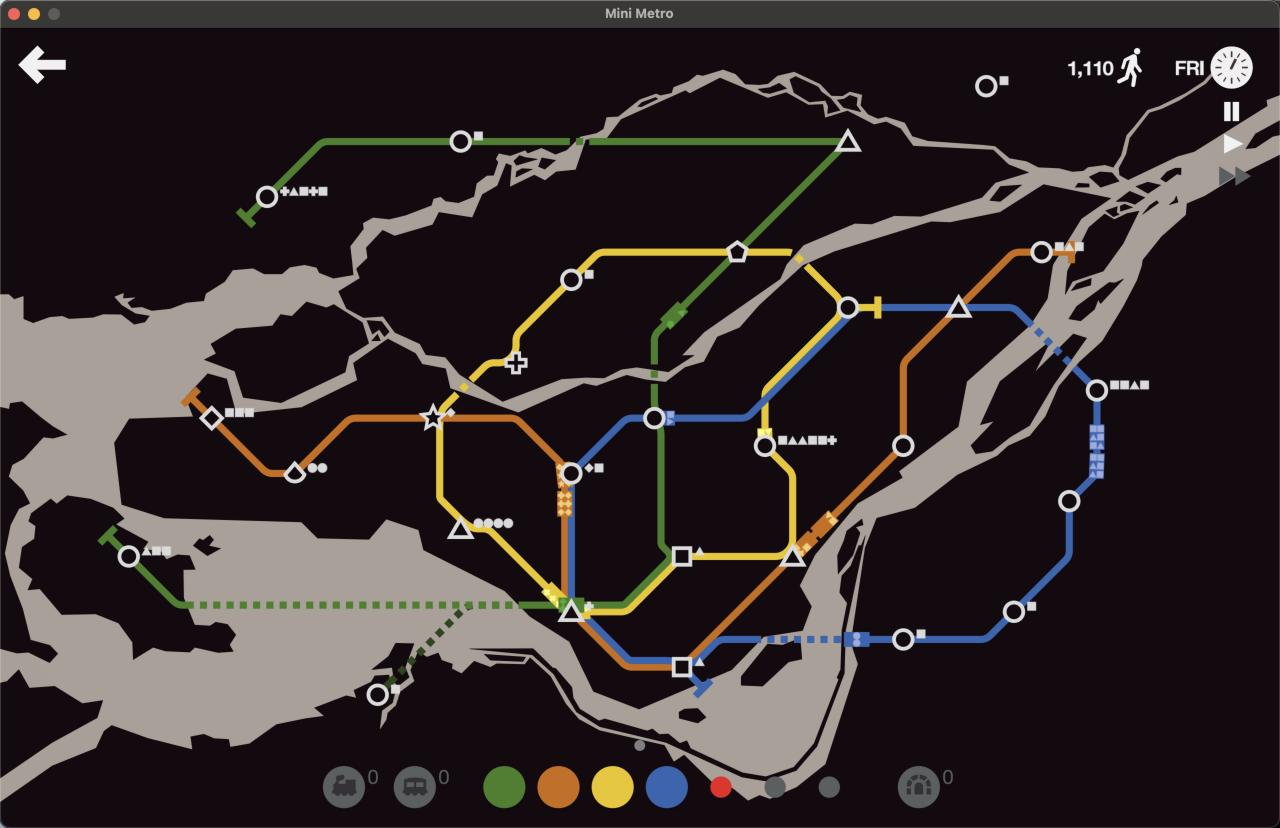CIRCLE: (365, 682, 391, 708), (974, 74, 999, 99), (559, 461, 583, 487), (642, 406, 668, 430), (449, 129, 473, 154), (892, 433, 916, 458), (117, 544, 141, 568), (255, 185, 279, 209), (1030, 240, 1054, 264), (892, 627, 916, 651), (1085, 378, 1109, 402), (1058, 489, 1081, 513), (560, 268, 583, 291), (837, 296, 860, 319), (1003, 600, 1026, 623), (754, 434, 777, 457)
CROSS: (504, 350, 529, 375)
GEM: (199, 405, 225, 432)
PENTAGON: (725, 240, 748, 264)
SQUARE: (671, 656, 693, 679), (671, 546, 693, 567), (1027, 601, 1037, 610)
STAR: (417, 401, 452, 431)
TRIANGLE: (945, 293, 974, 319), (779, 543, 807, 568), (447, 516, 474, 540), (558, 598, 585, 622), (836, 128, 862, 152)
WEDGE: (283, 461, 306, 484)
